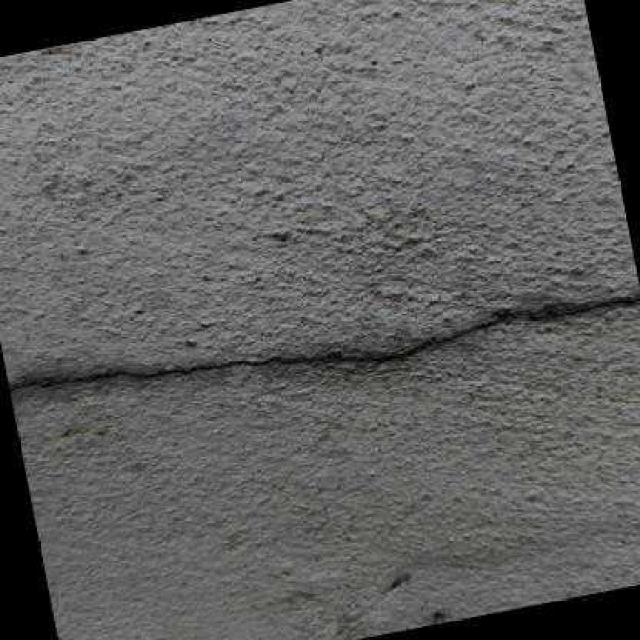D00: (7, 292, 640, 392)
